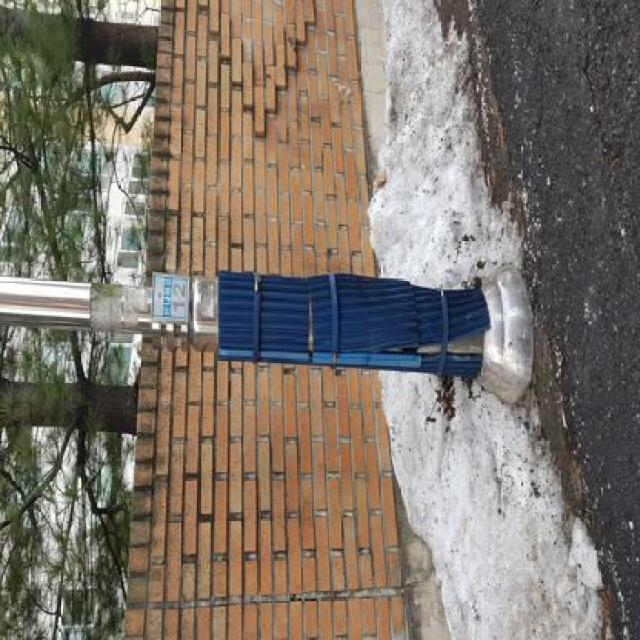pole: (0, 234, 543, 415)
